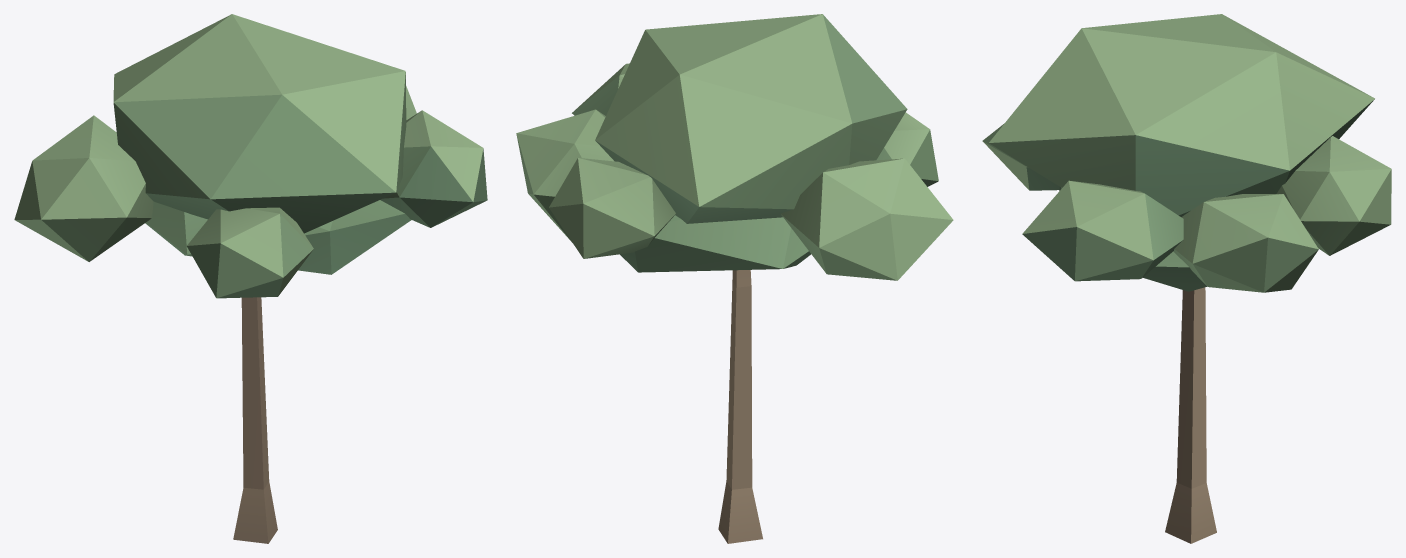
The model's file is tree.lod2.glb.
3 views of the same model, side by side, from view 1: azimuth 30°, elevation 25°; view 2: azimuth 150°, elevation 25°; view 3: azimuth 270°, elevation 25° (orthographic).
Size of the model in its own units: 7.16 by 8.31 by 6.28.
